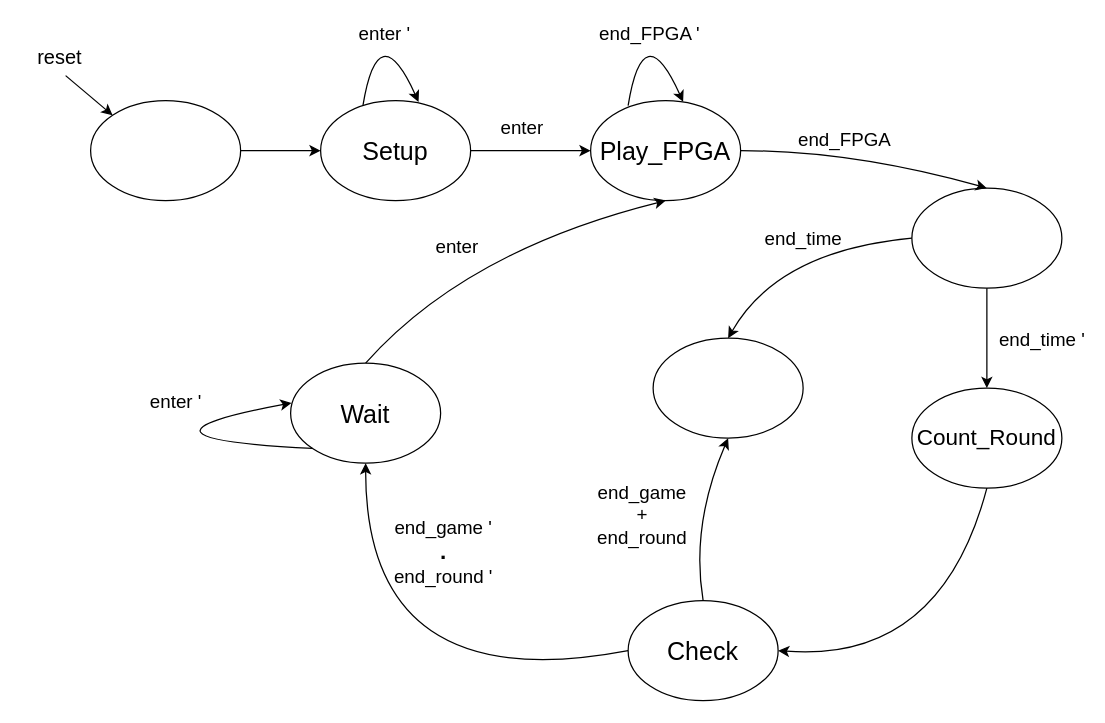
Image size: 1105x723. Some labels were removed from this diagram. Here are the shapes that lost their labels. From the top down, the centre of each, then its label:
At point (165, 150): "Init".
At point (986, 237): "Play_user".
At point (727, 387): "Result".
